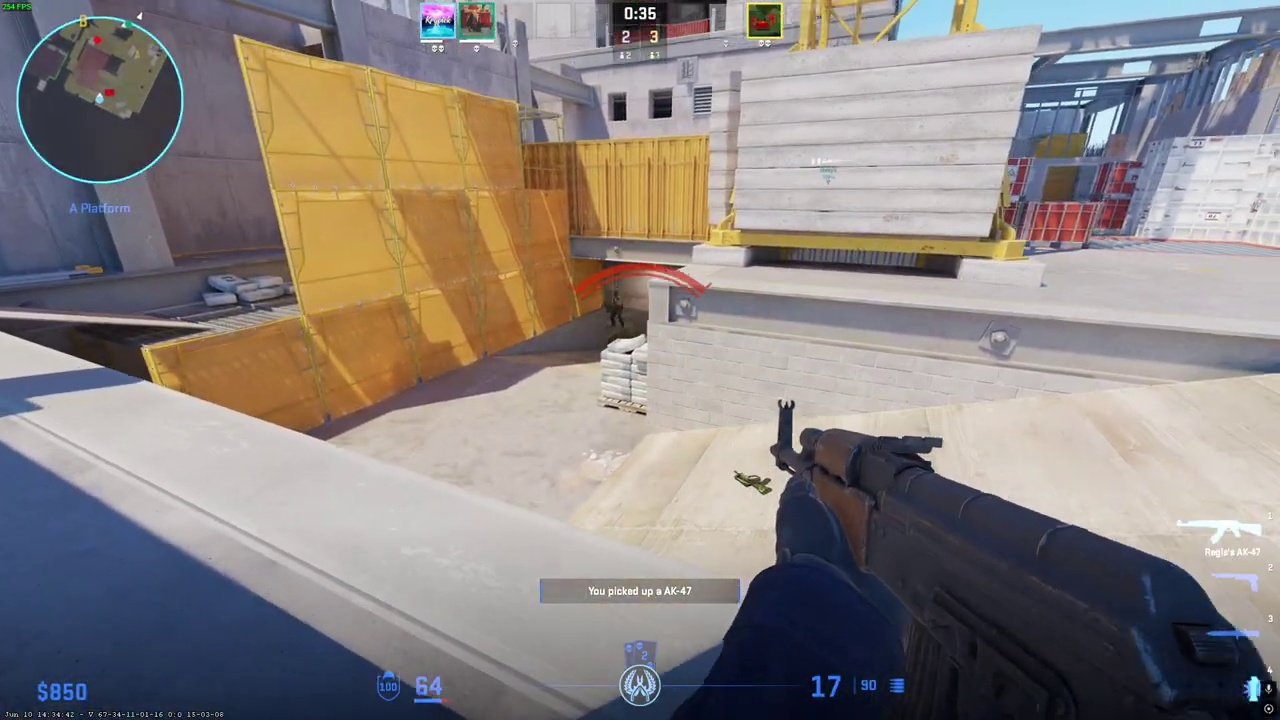Terrorist: (609, 292, 624, 328)
